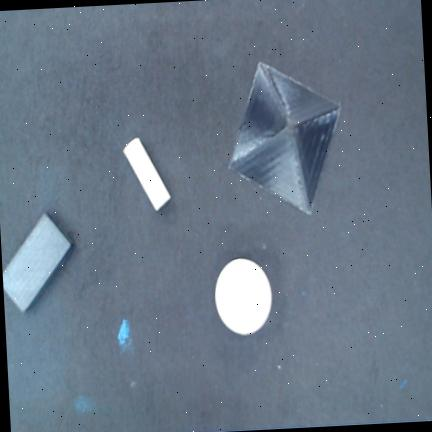Cilindro: (124, 138, 170, 210)
Esfera: (215, 258, 271, 335)
Paralelepipedo: (3, 211, 76, 313)
Piramide: (230, 60, 342, 217)
